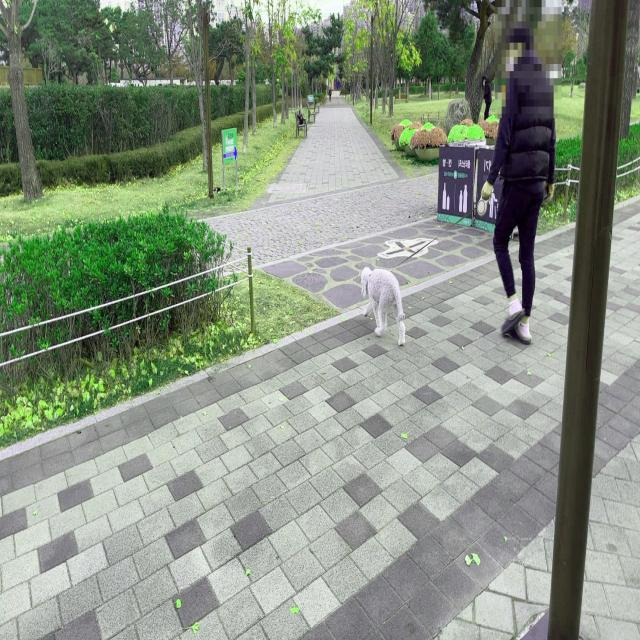Leashed_Dog: (361, 180, 529, 347)
